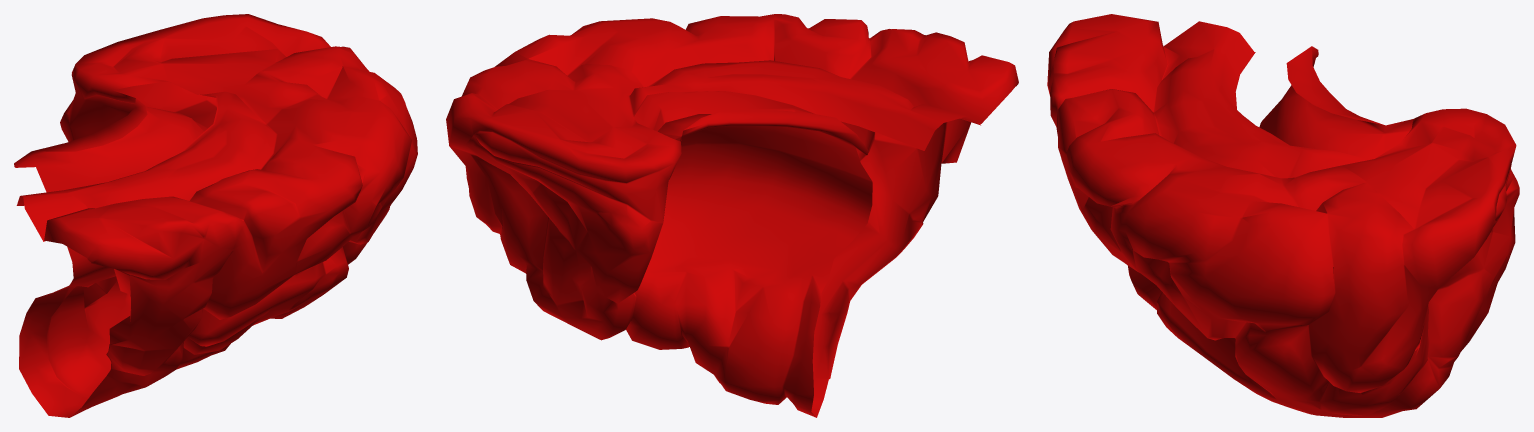
File: region_12.obj
3 views of the same model, side by side, from view 1: azimuth 30°, elevation 25°; view 2: azimuth 150°, elevation 25°; view 3: azimuth 270°, elevation 25° (orthographic). The views are drawn at different scales.
Parts seen in each view (by area): view 1: ID107; view 2: ID107; view 3: ID107.
Boxes of the visible parts, x1,y1,x2,y2 form: ID107: (14,14,417,417); ID107: (446,14,1018,417); ID107: (1047,14,1519,417).
Size of the model in its own units: 120 by 76.16 by 104.
